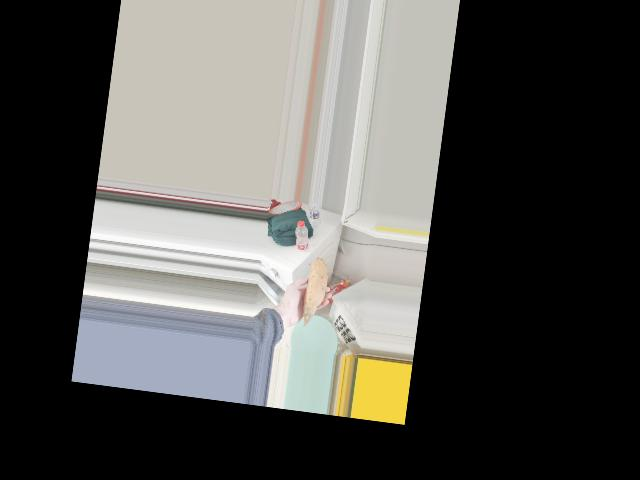sweet_potato: (299, 262, 325, 324)
